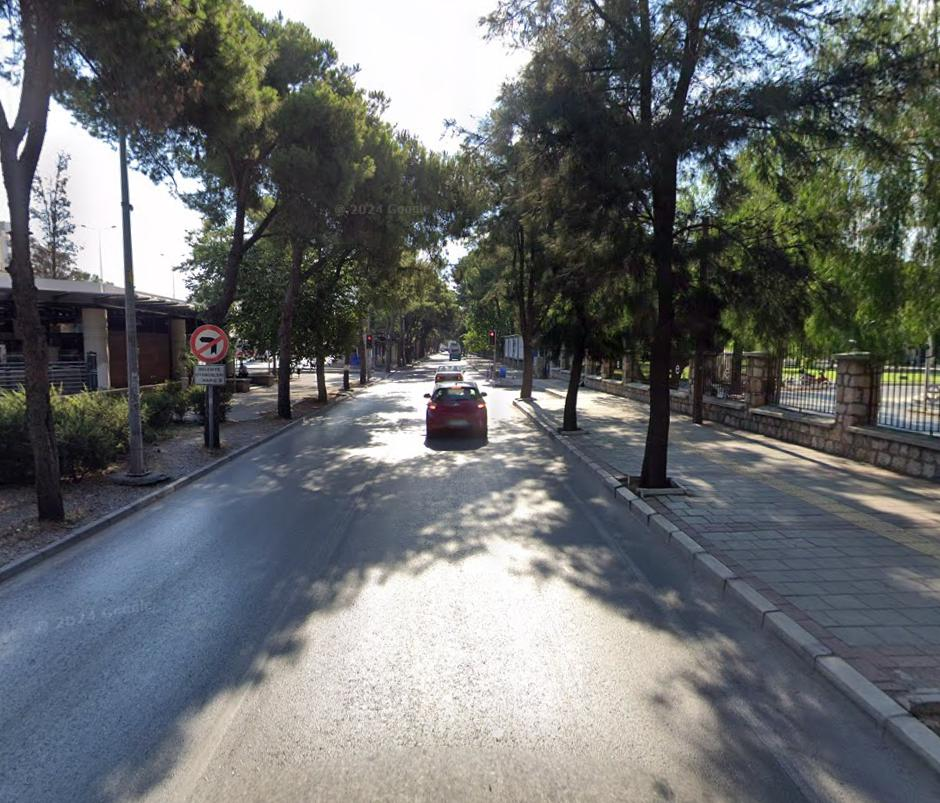leftturnsareforbidden: (192, 326, 227, 363)
redlight: (488, 329, 496, 346), (367, 334, 374, 350)
